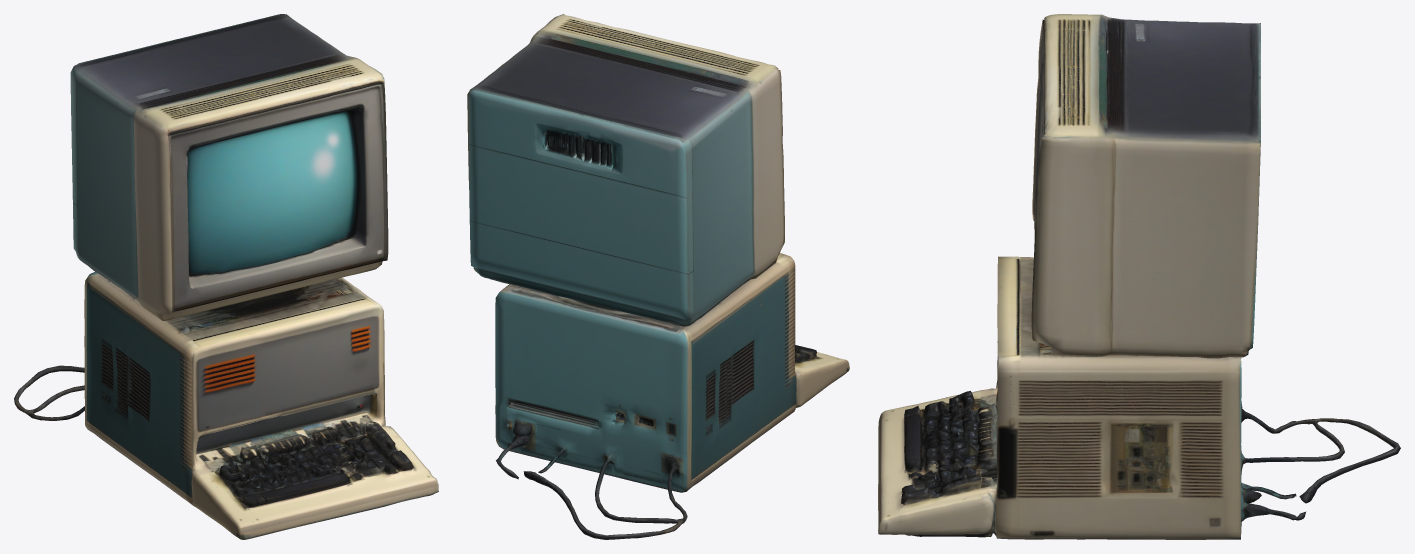
File: computer2.glb
3 renders of one model, left to right at view 1: azimuth 30°, elevation 25°; view 2: azimuth 150°, elevation 25°; view 3: azimuth 270°, elevation 25°, orthographic. The views are drawn at different scales.
Size of the model in its own units: 1.22 by 1.79 by 2.
1 material, 1 textured.
